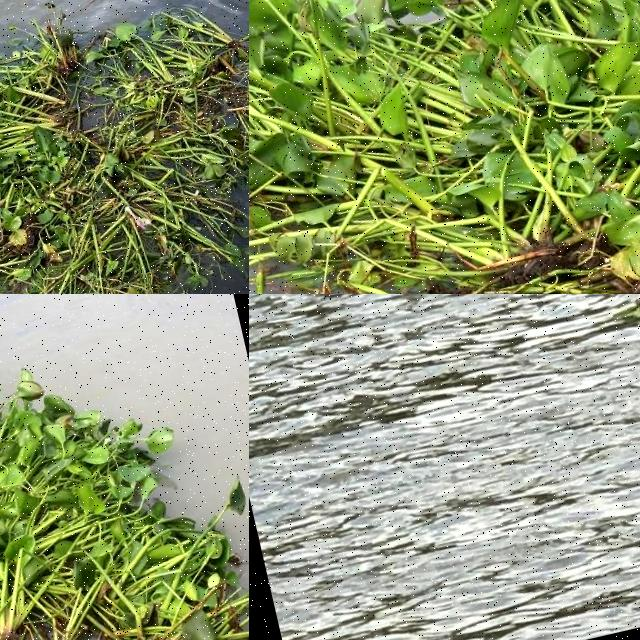water-hyacinth: (250, 1, 640, 295), (1, 310, 250, 640), (1, 1, 250, 295), (1, 373, 249, 640)
